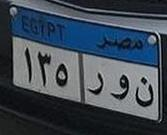1: (23, 45, 33, 83)
3: (36, 49, 53, 90)
5: (54, 62, 70, 90)
noon: (134, 75, 155, 109)
raa: (85, 69, 106, 97)
waw: (109, 69, 130, 101)
